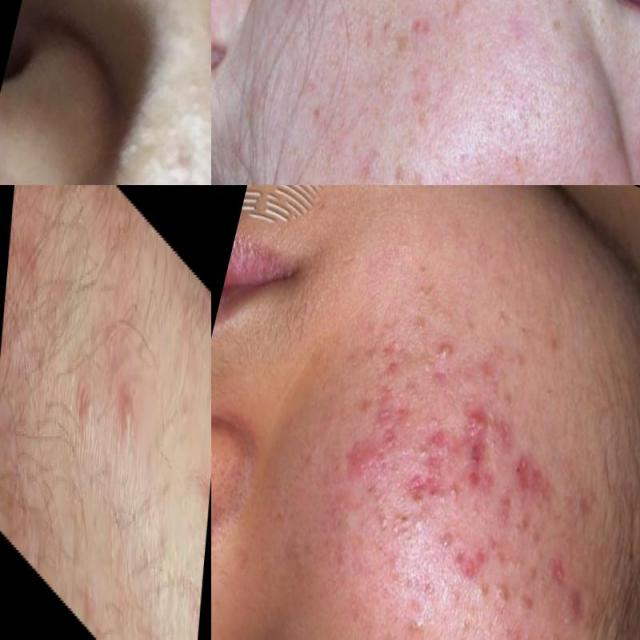7: (83, 140, 181, 185)
9: (430, 324, 468, 378), (117, 374, 140, 462)
blackheads: (406, 413, 500, 493), (550, 571, 598, 634), (502, 444, 546, 508), (450, 538, 496, 596), (338, 433, 384, 486), (457, 397, 500, 451), (400, 596, 438, 640), (484, 567, 516, 607), (499, 628, 549, 640)
